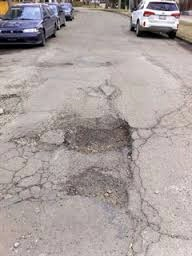pothole: (63, 167, 138, 203), (58, 121, 142, 153), (1, 82, 19, 131), (0, 183, 36, 206), (13, 135, 57, 150)
